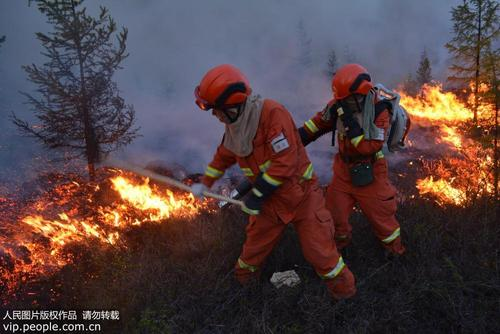fire: (113, 172, 193, 217), (402, 86, 476, 127), (33, 213, 102, 245), (415, 176, 470, 207)
smoke: (215, 3, 425, 67), (125, 10, 200, 149)
